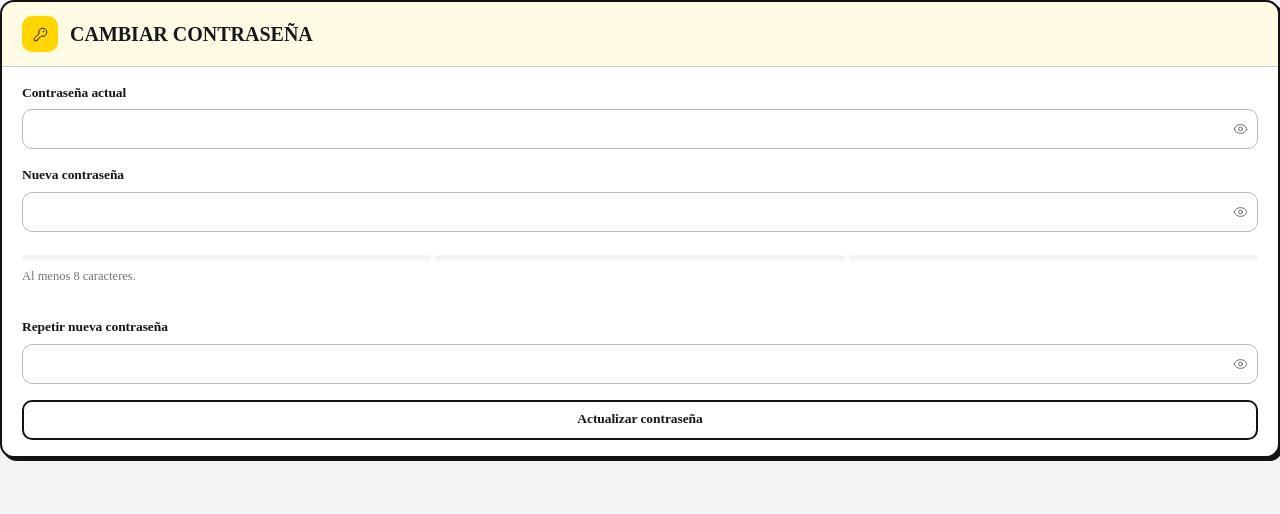
Test case: ChangePasswordCard › sends the current and the new password and confirms success
This screenshot has width=1280, height=514.
Type "claveActual123" into the password field labelled "Contraseña actual". click: (640, 129)
box: 22,109 -> 1258,149
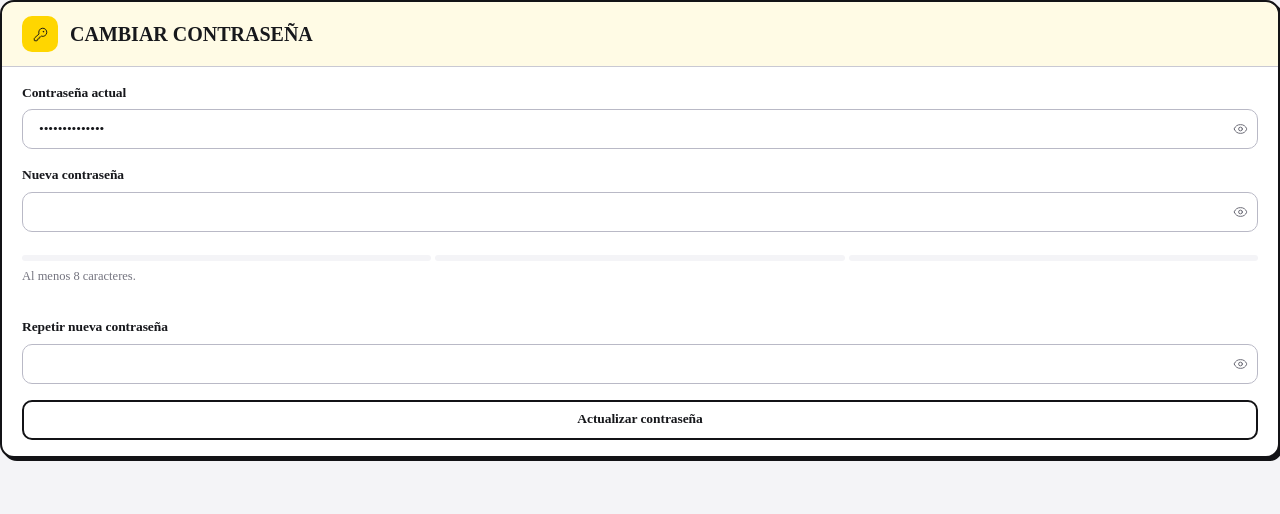
Type "claveNueva456" into the password field labelled "Nueva contraseña". click: (640, 212)
box: 22,192 -> 1258,232
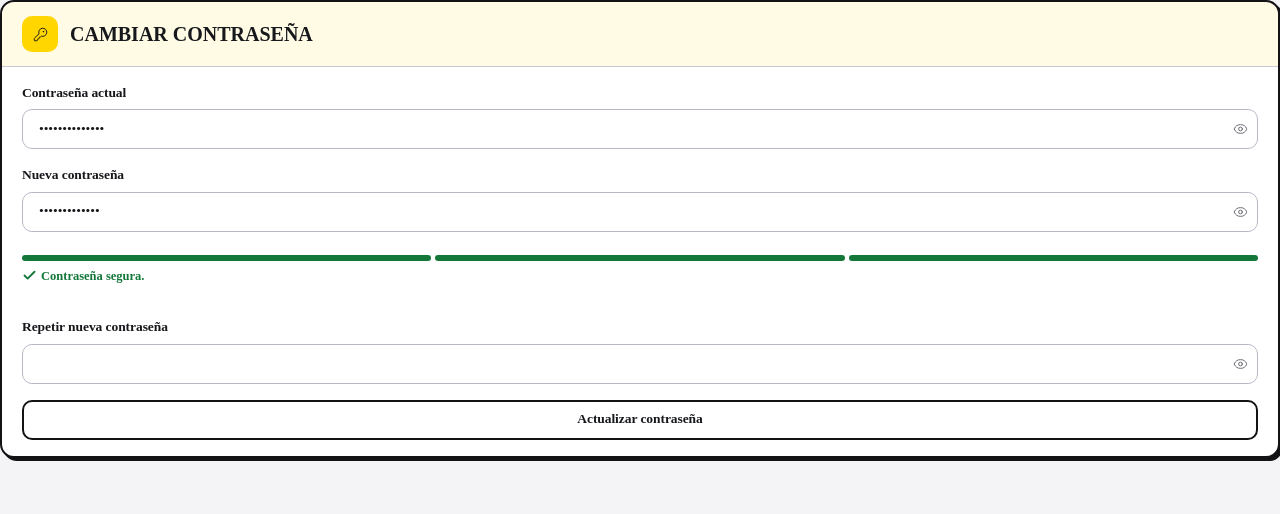
Type "claveNueva456" into the password field labelled "Repetir nueva contraseña". click: (640, 364)
box: 22,344 -> 1258,384
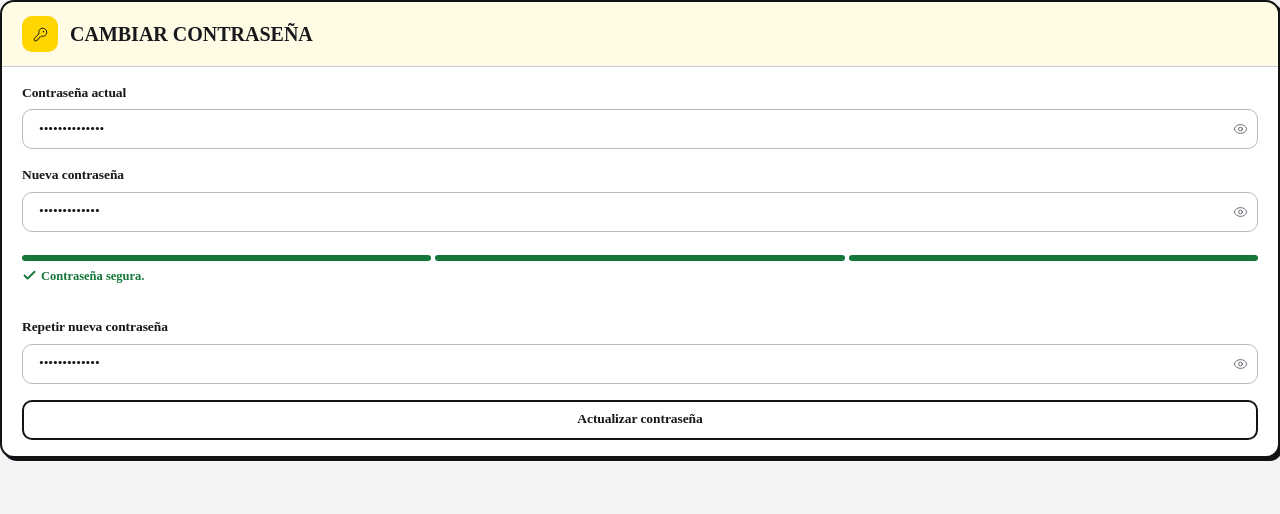
Click the button "Actualizar contraseña". click: (640, 420)
box: 22,400 -> 1258,440
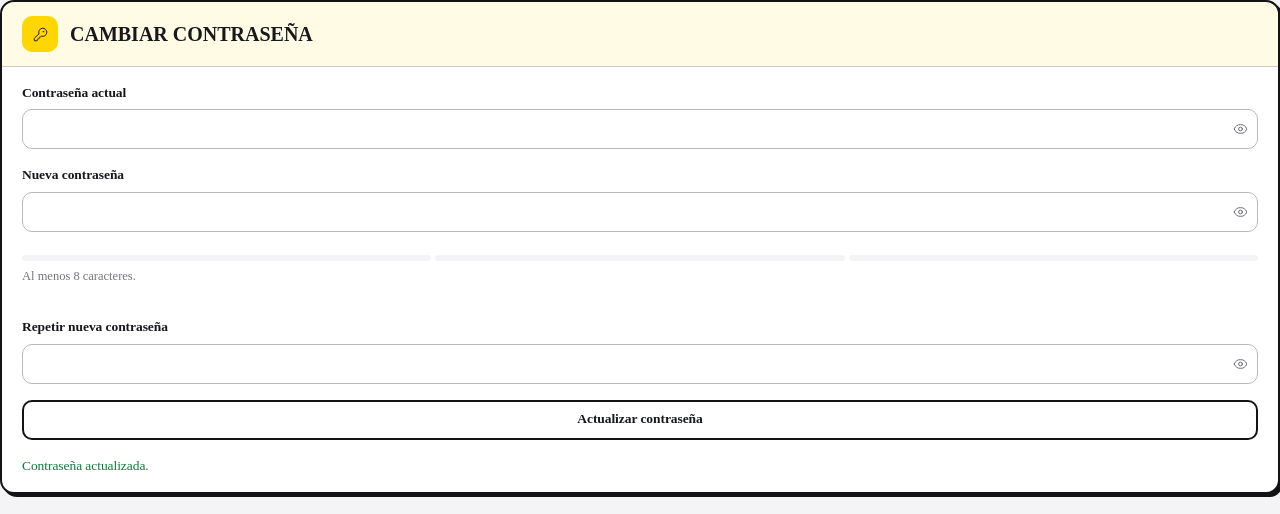
Expected: the text "Contraseña actualizada." is shown, 22,458 -> 149,472
Expected: the password field labelled "Contraseña actual" is empty, 22,109 -> 1258,149
